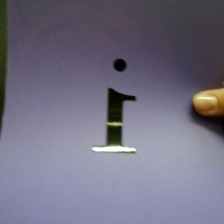violet1: (84, 55, 148, 157)
